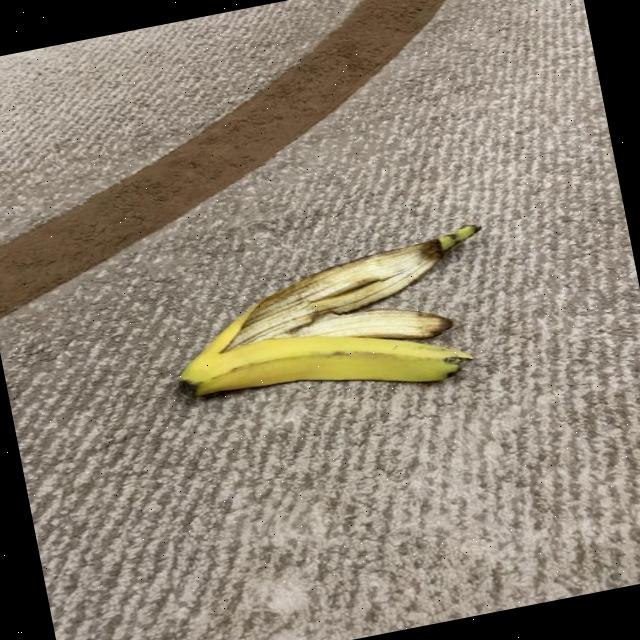banana-peel: (157, 220, 509, 432), (173, 296, 477, 432), (210, 220, 494, 352)
